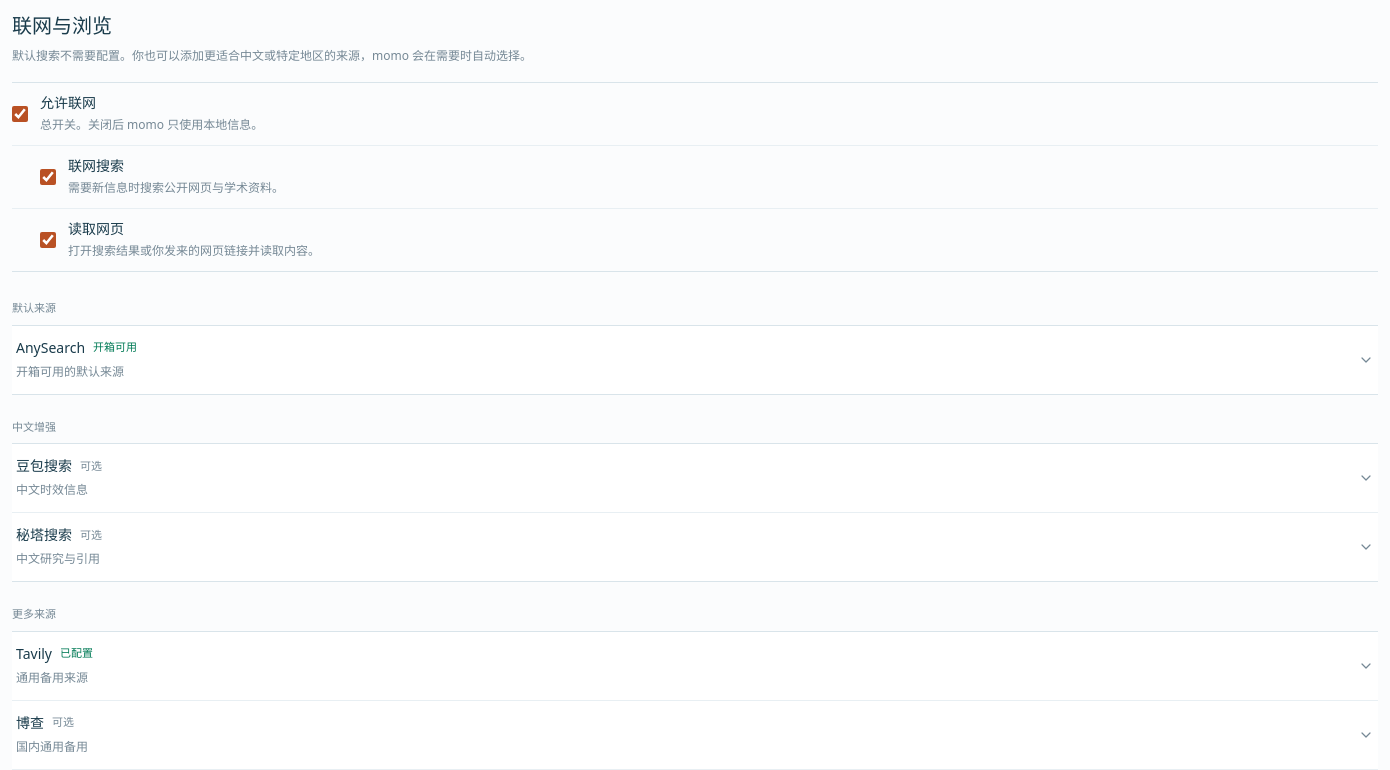
Test: SearchSourcesSection — source journey › 一次只展开一个来源，配置字段与状态始终在当前行附近
The image size is (1390, 770).
Expected: the text "豆包搜索" is shown, [16, 456, 72, 476]
Click the button with aria-label "配置 豆包搜索" at [44, 466], box [12, 444, 1378, 512]
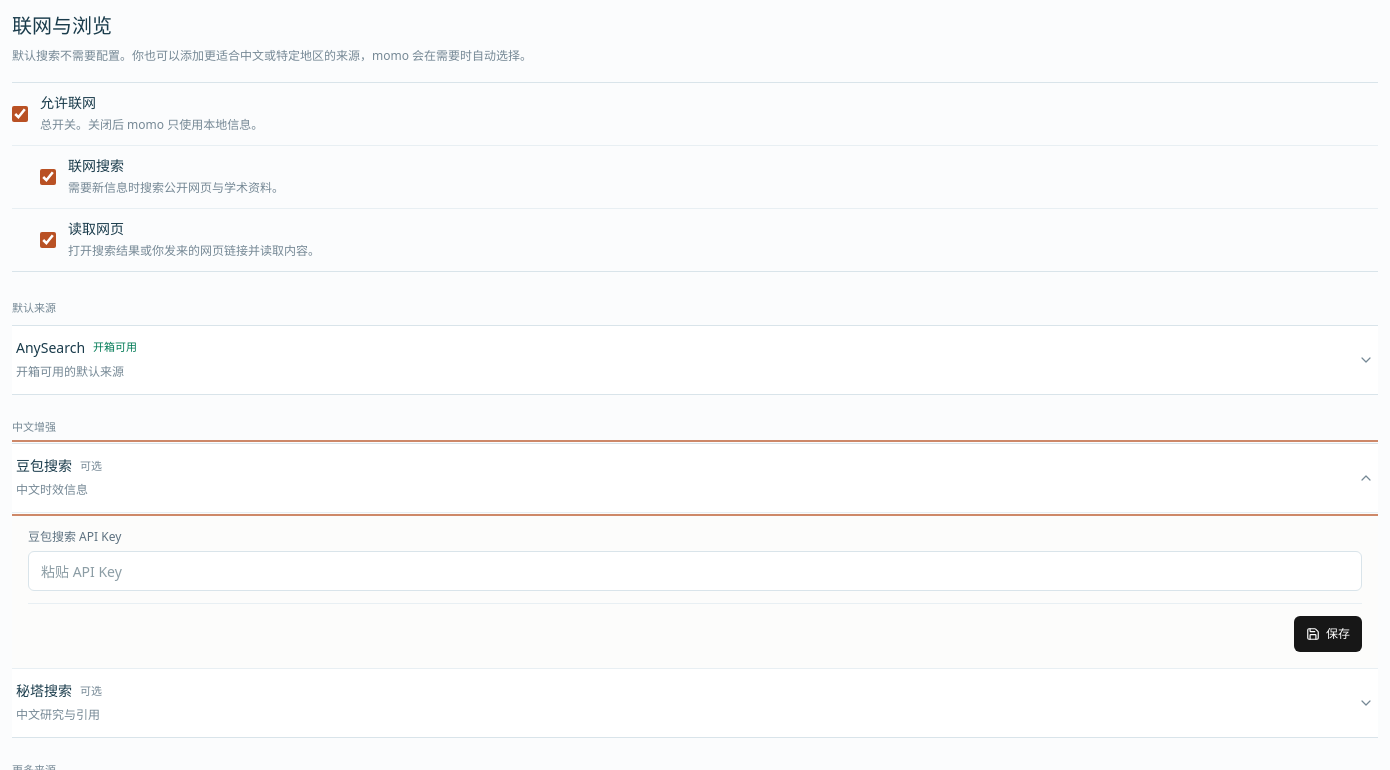
Now the password field labelled "豆包搜索 API Key" is shown, box [28, 551, 1362, 591]
Click the button with aria-label "配置 秘塔搜索" at [44, 690], box [12, 669, 1378, 737]
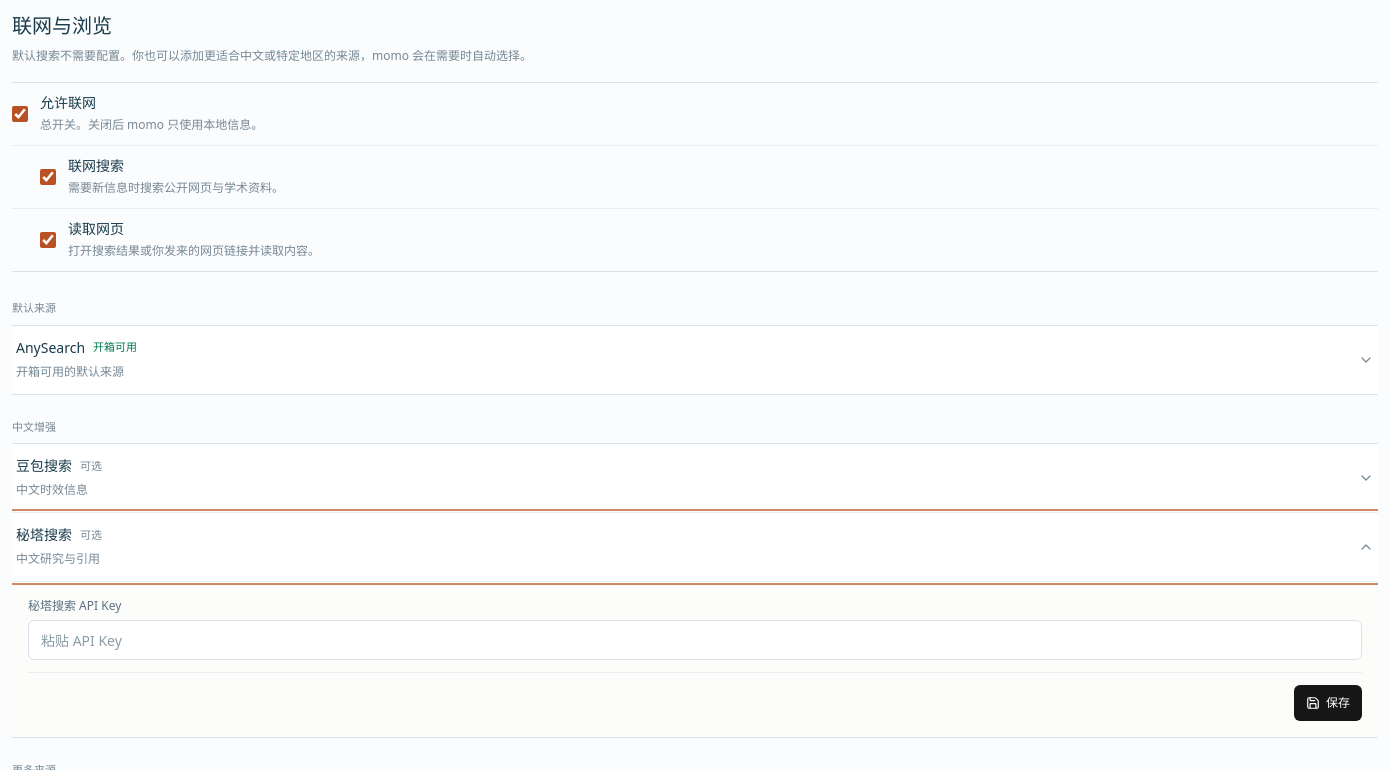
Now the text labelled "豆包搜索 API Key" is gone
Now the password field labelled "秘塔搜索 API Key" is shown, box [28, 620, 1362, 660]
